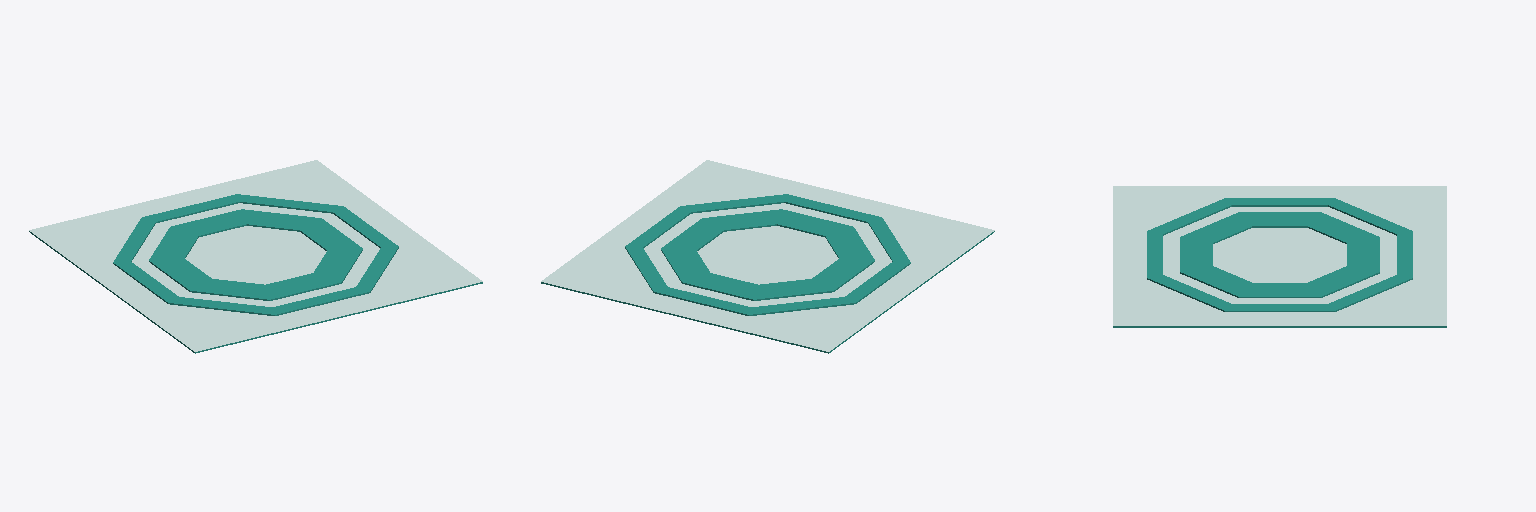
Rendered from Prop_Rug_Sun.obj.
3 renders of one model, left to right at view 1: azimuth 30°, elevation 25°; view 2: azimuth 150°, elevation 25°; view 3: azimuth 270°, elevation 25°, orthographic.
Visible parts, largest first — view 1: object1; view 2: object1; view 3: object1.
Boxes of the visible parts, x1,y1,x2,y2 form: object1: [29, 160, 482, 353]; object1: [541, 160, 994, 353]; object1: [1113, 186, 1446, 327].
Bounding box in the file's own units: 1 × 0.01 × 1.